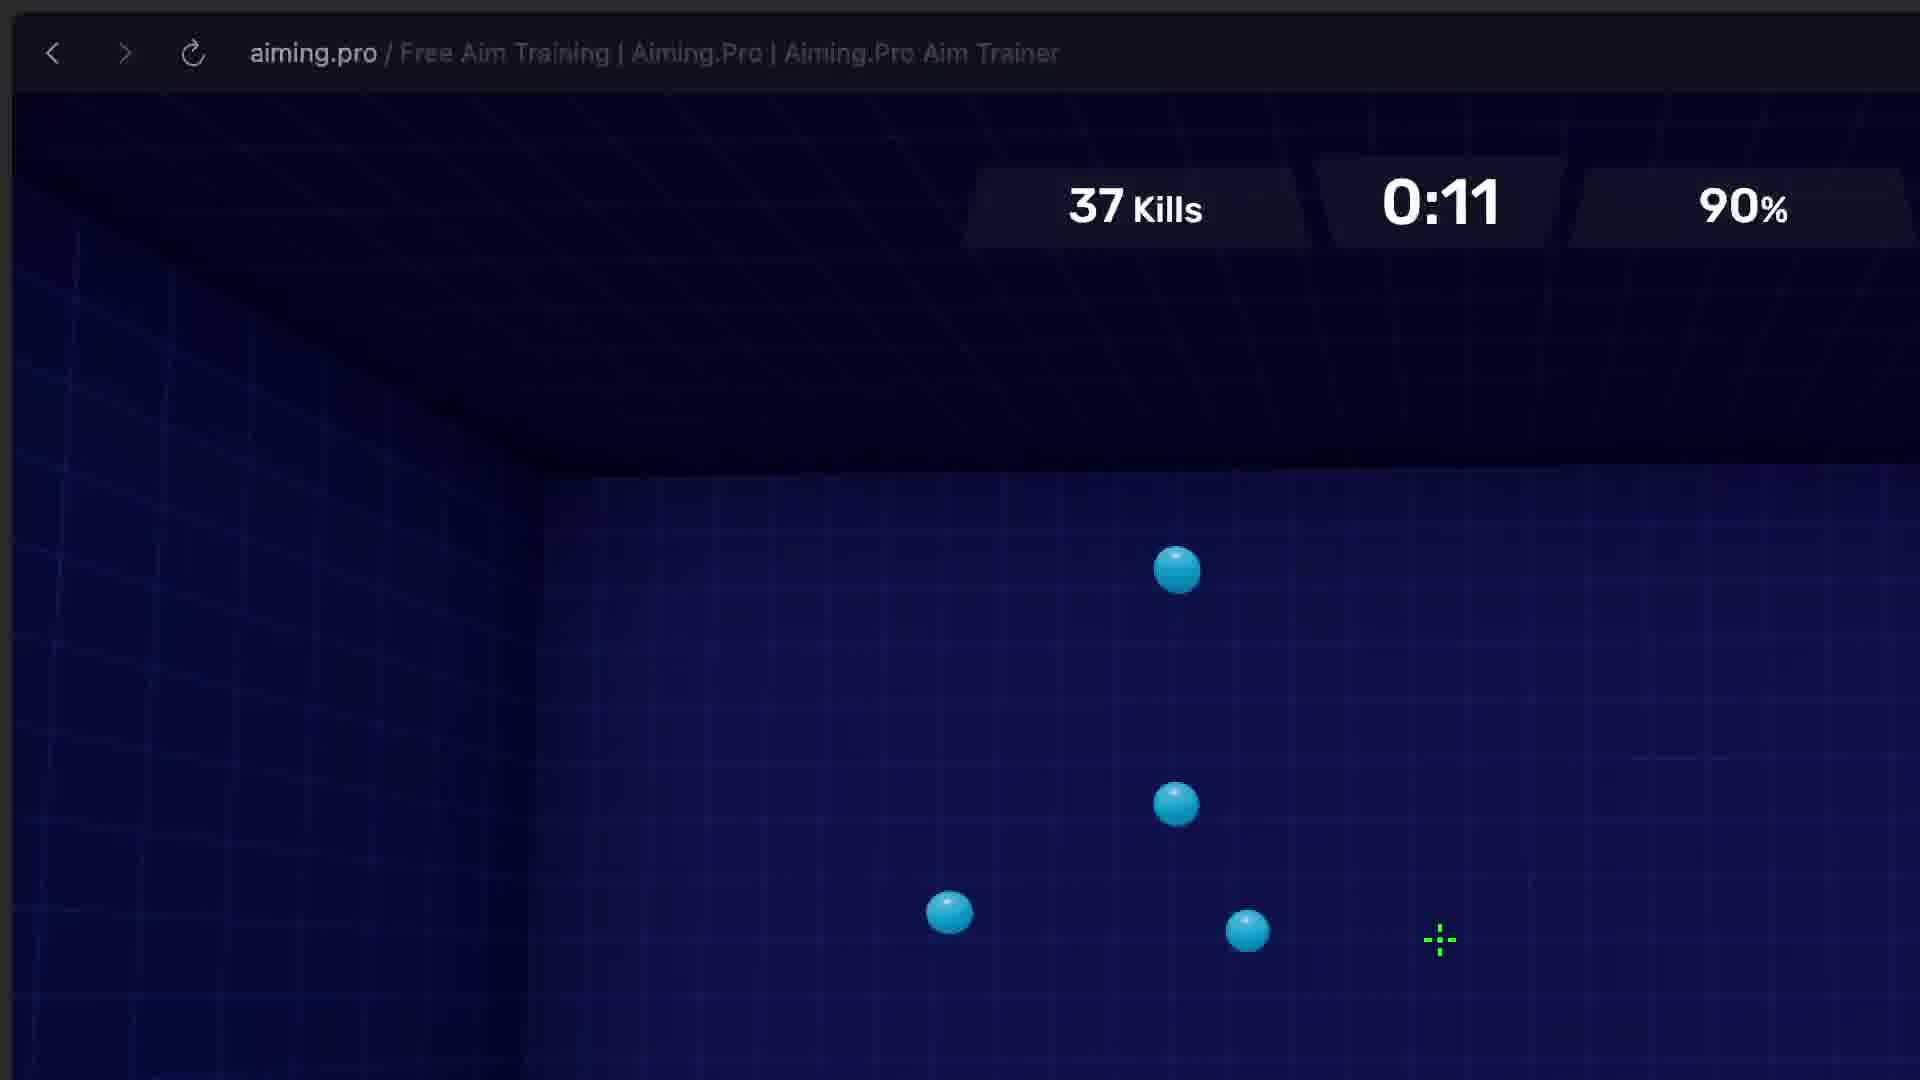target: (1154, 546, 1200, 593), (1153, 781, 1199, 827), (927, 890, 972, 934), (1226, 911, 1269, 952)
